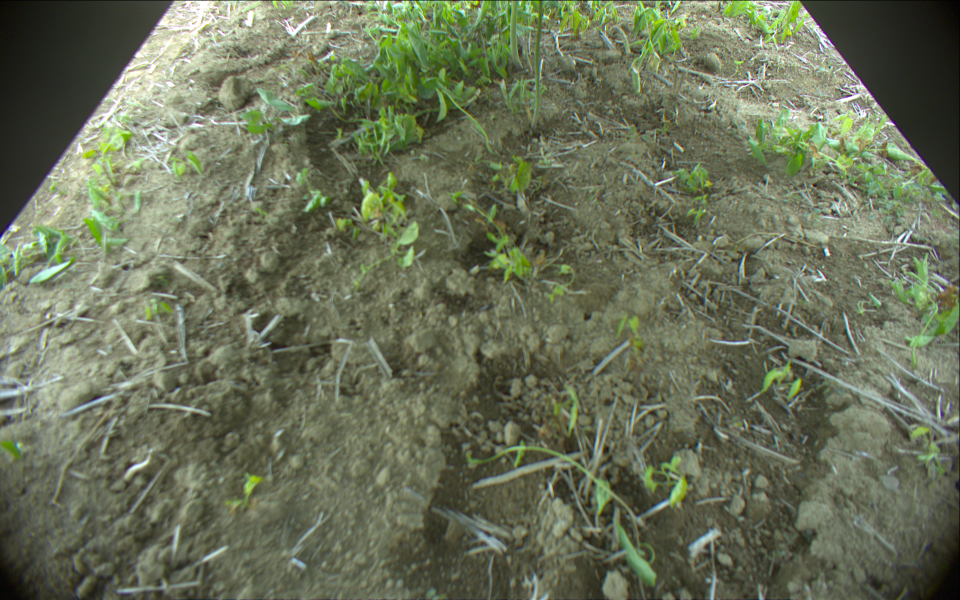aspa: (529, 1, 548, 129), (507, 1, 524, 66)
